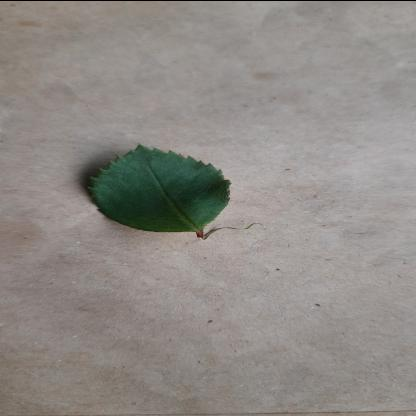normal: (84, 138, 232, 235)
